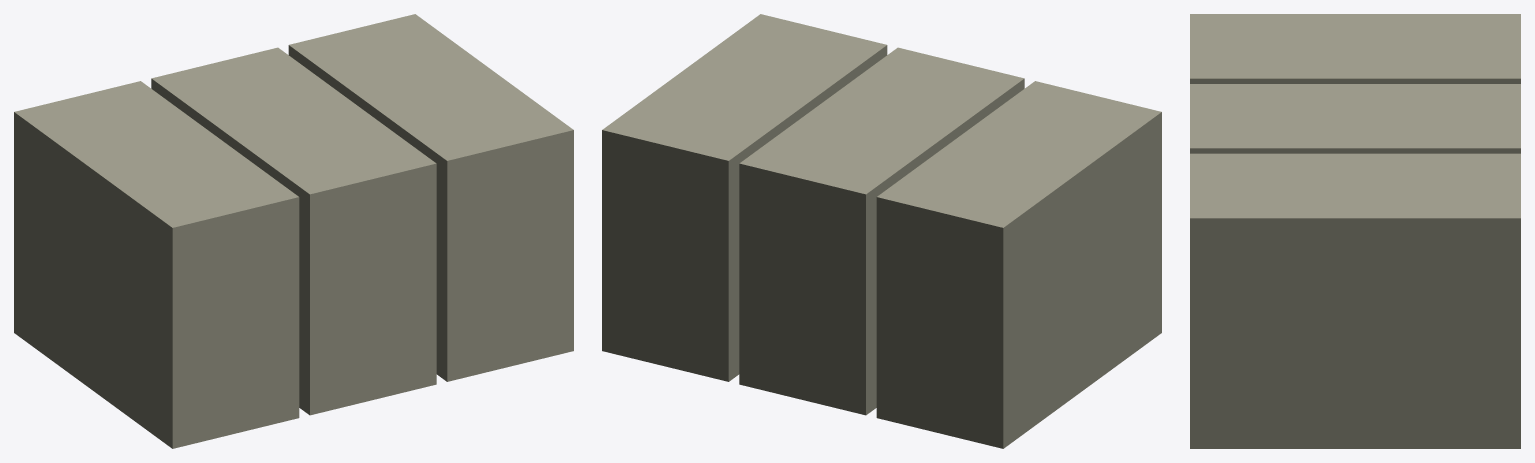
3 renders of one model, left to right at view 1: azimuth 30°, elevation 25°; view 2: azimuth 150°, elevation 25°; view 3: azimuth 270°, elevation 25°, orthographic. The views are drawn at different scales.
Visible parts, largest first — view 1: a91922013be8eee8047194e674fb3b5591dc2a56295e4930c0656da3275c; view 2: a91922013be8eee8047194e674fb3b5591dc2a56295e4930c0656da3275c; view 3: a91922013be8eee8047194e674fb3b5591dc2a56295e4930c0656da3275c.
Part boxes in pixels (<box>): a91922013be8eee8047194e674fb3b5591dc2a56295e4930c0656da3275c: <box>14,14,573,448</box>; a91922013be8eee8047194e674fb3b5591dc2a56295e4930c0656da3275c: <box>602,14,1161,448</box>; a91922013be8eee8047194e674fb3b5591dc2a56295e4930c0656da3275c: <box>1190,14,1520,448</box>.
Bounding box in the file's own units: 1.9 × 1 × 1.3.
